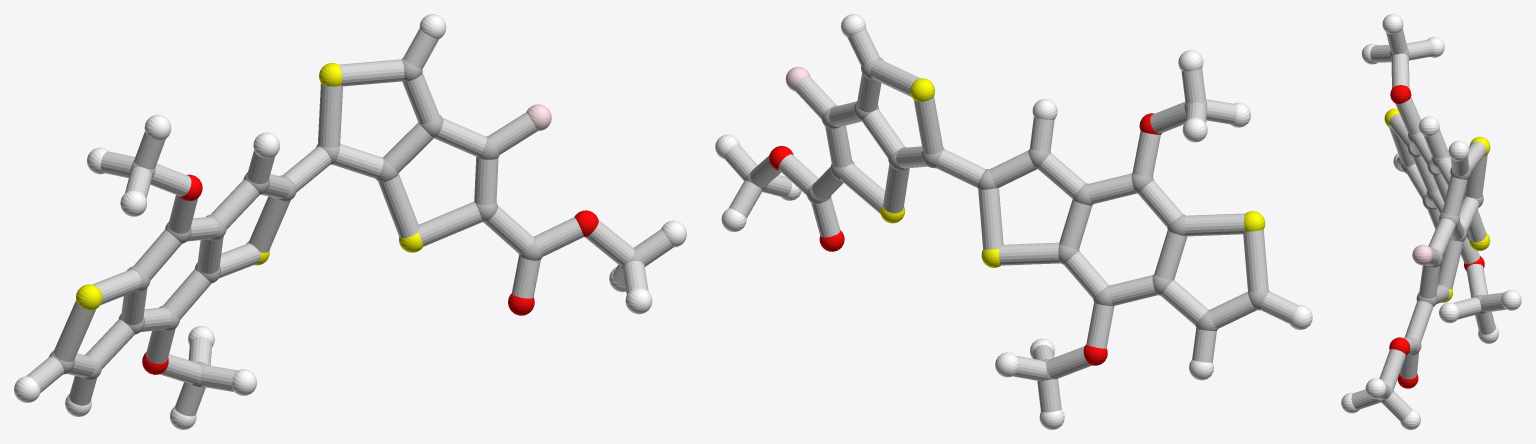
Rendered from Dimethoxy_Benzodithiophene_Phi_25_Theta_320_Methylcarbonyl_3_Fluoro_Thienothiophene.glb.
The picture shows the model from 3 angles, left to right: view 1: azimuth 30°, elevation 25°; view 2: azimuth 150°, elevation 25°; view 3: azimuth 270°, elevation 25°; orthographic projection. The views are drawn at different scales.
Parts seen in each view (by area): view 1: grp15205, grp8689, grp1, grp13395, grp7241; view 2: grp15205, grp8689, grp1, grp7241, grp13395; view 3: grp15205, grp8689, grp1, grp13395, grp7241, grp14843.
Boxes of the visible parts, x1,y1,x2,y2 form: grp15205: [26, 28, 673, 416]; grp8689: [14, 14, 686, 429]; grp1: [49, 58, 644, 387]; grp13395: [142, 174, 598, 374]; grp7241: [76, 63, 423, 310]; grp15205: [724, 28, 1297, 412]; grp8689: [715, 14, 1312, 429]; grp1: [744, 57, 1269, 380]; grp7241: [880, 78, 1265, 267]; grp13395: [769, 113, 1161, 365]; grp15205: [1351, 28, 1506, 421]; grp8689: [1341, 14, 1521, 429]; grp1: [1376, 48, 1486, 402]; grp13395: [1389, 85, 1484, 388]; grp7241: [1384, 108, 1490, 302]; grp14843: [1412, 244, 1433, 265].
Bounding box in the file's own units: 16.82 × 9.34 × 5.18.
